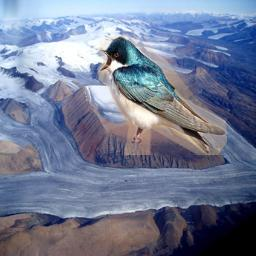Swallow: (97, 34, 227, 155)
